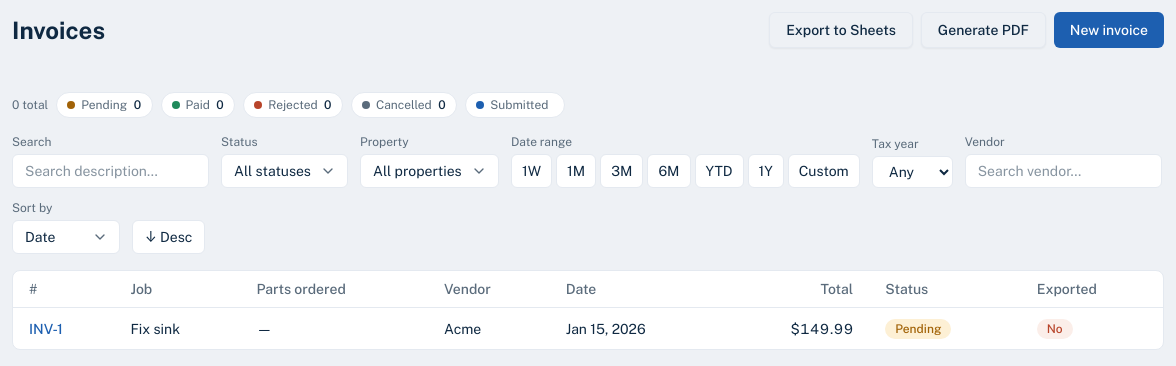
Test: InvoiceList — export to Sheets › shows the raw message for a generic ApiError, and a fallback for a non-ApiError
Expected: the link "INV-1" is shown, x1=29 y1=320 x2=63 y2=336
Click the button "Export to Sheets".
click(841, 30)  # box x1=769 y1=12 x2=913 y2=48
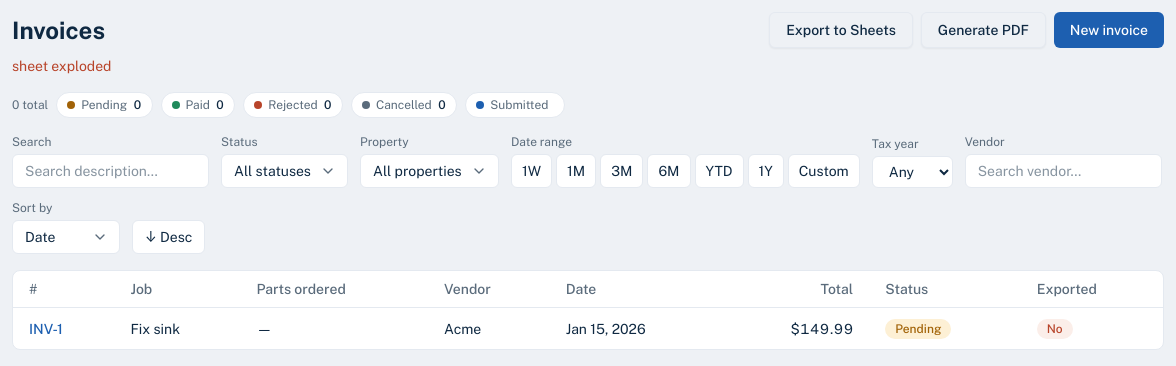
Now the text "sheet exploded" is shown, box x1=12 y1=58 x2=112 y2=74
